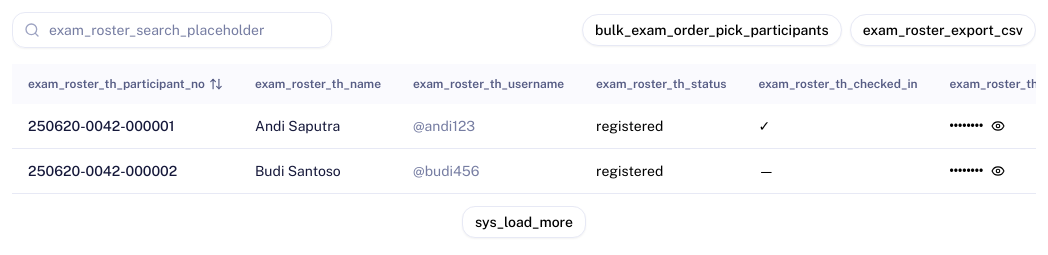
Test case: ExamRegistrationsTab — participant roster (FR-32) › appends unique registrations when Load More follows next_cursor
Click the button "sys_load_more" at point(524, 222), box [462,206,586,238]
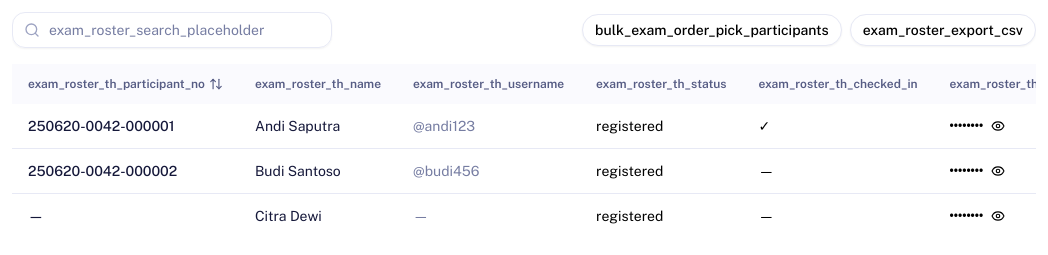
Result: the text "Budi Santoso" is shown once at [255,163,341,179]
Result: the text "Citra Dewi" is shown at [255,208,322,224]
